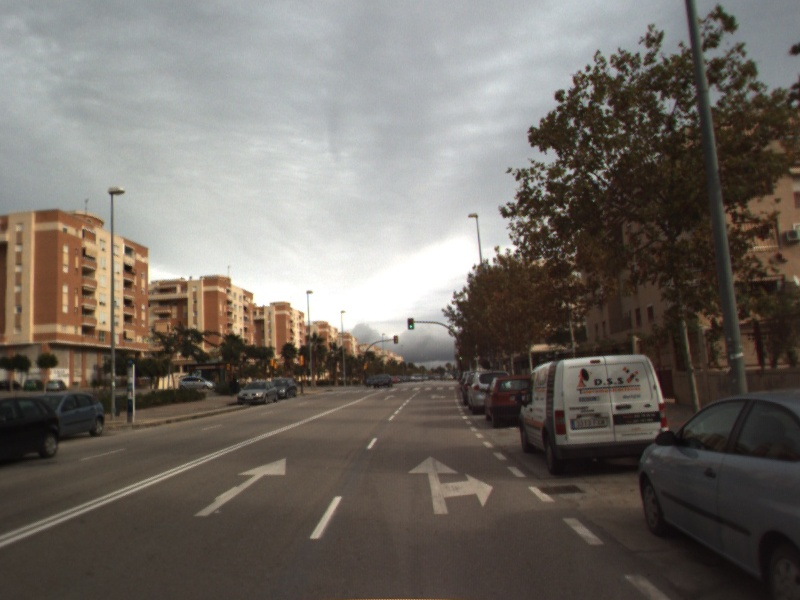STRAIGHT: (191, 456, 288, 518)
STRAIGHT_RIGHT: (406, 454, 495, 516)
